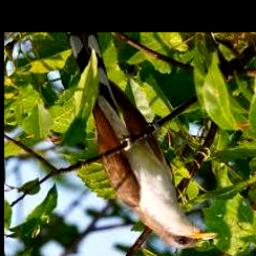Cuckoo: (65, 32, 217, 249)
